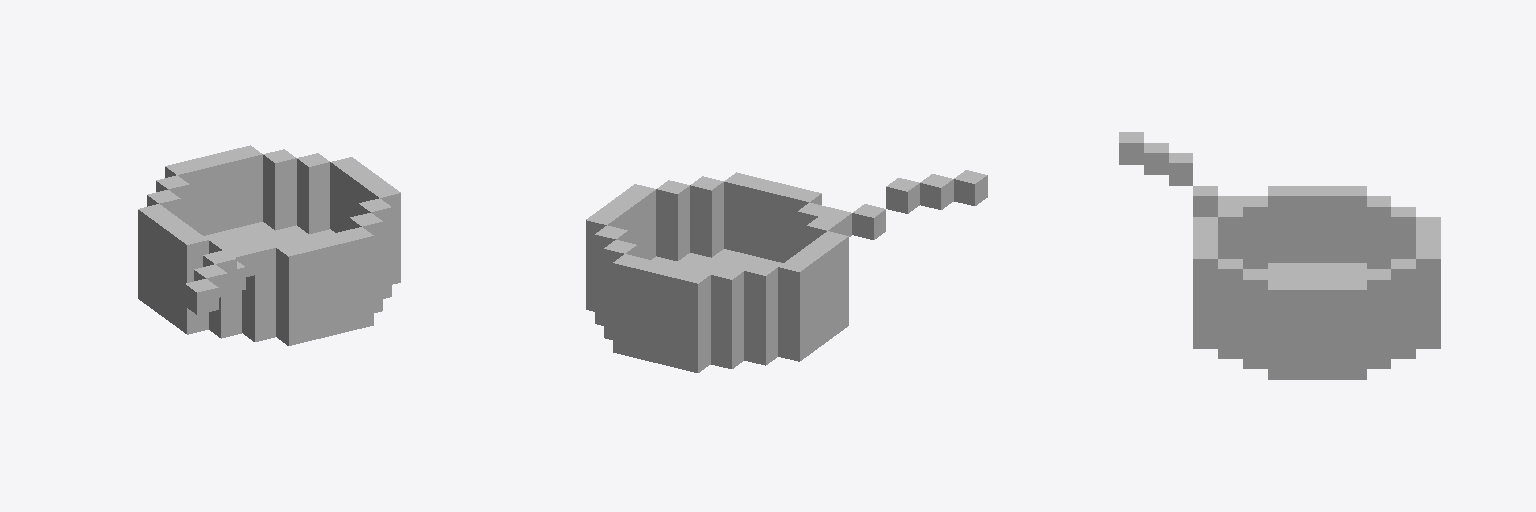
The model's file is hardcook_saucepan.obj.
The picture shows the model from 3 angles: view 1: azimuth 30°, elevation 25°; view 2: azimuth 150°, elevation 25°; view 3: azimuth 270°, elevation 25°; orthographic projection.
Parts seen in each view (by area): view 1: node_0_0_0.002; view 2: node_0_0_0.002; view 3: node_0_0_0.002.
Part boxes in pixels (x1,y1,x2,y2): node_0_0_0.002: (138,145,400,345); node_0_0_0.002: (586,170,987,372); node_0_0_0.002: (1119,132,1440,379).
Size of the model in its own units: 0.8125 by 0.3125 by 0.8125.